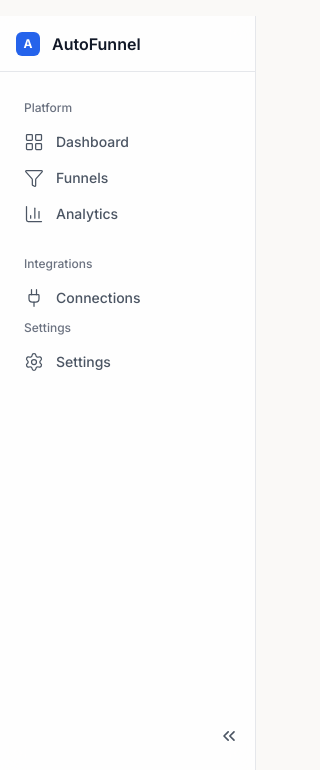
Sidebar › collapses when toggle button is clicked
Click the button named "collapse": {"x": 229, "y": 736} top-left (211, 718), bottom-right (247, 754)
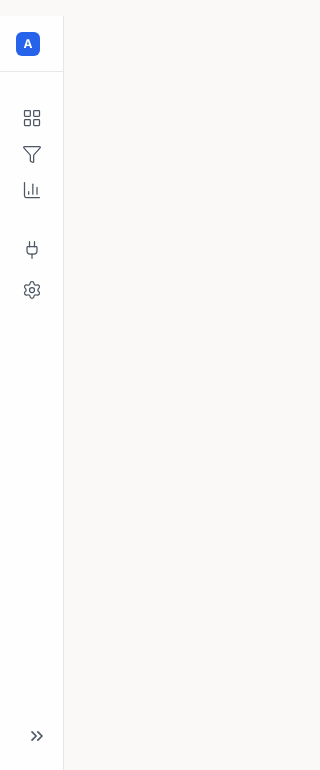
Result: the text "Platform" is gone
Result: the text "Dashboard" is gone
